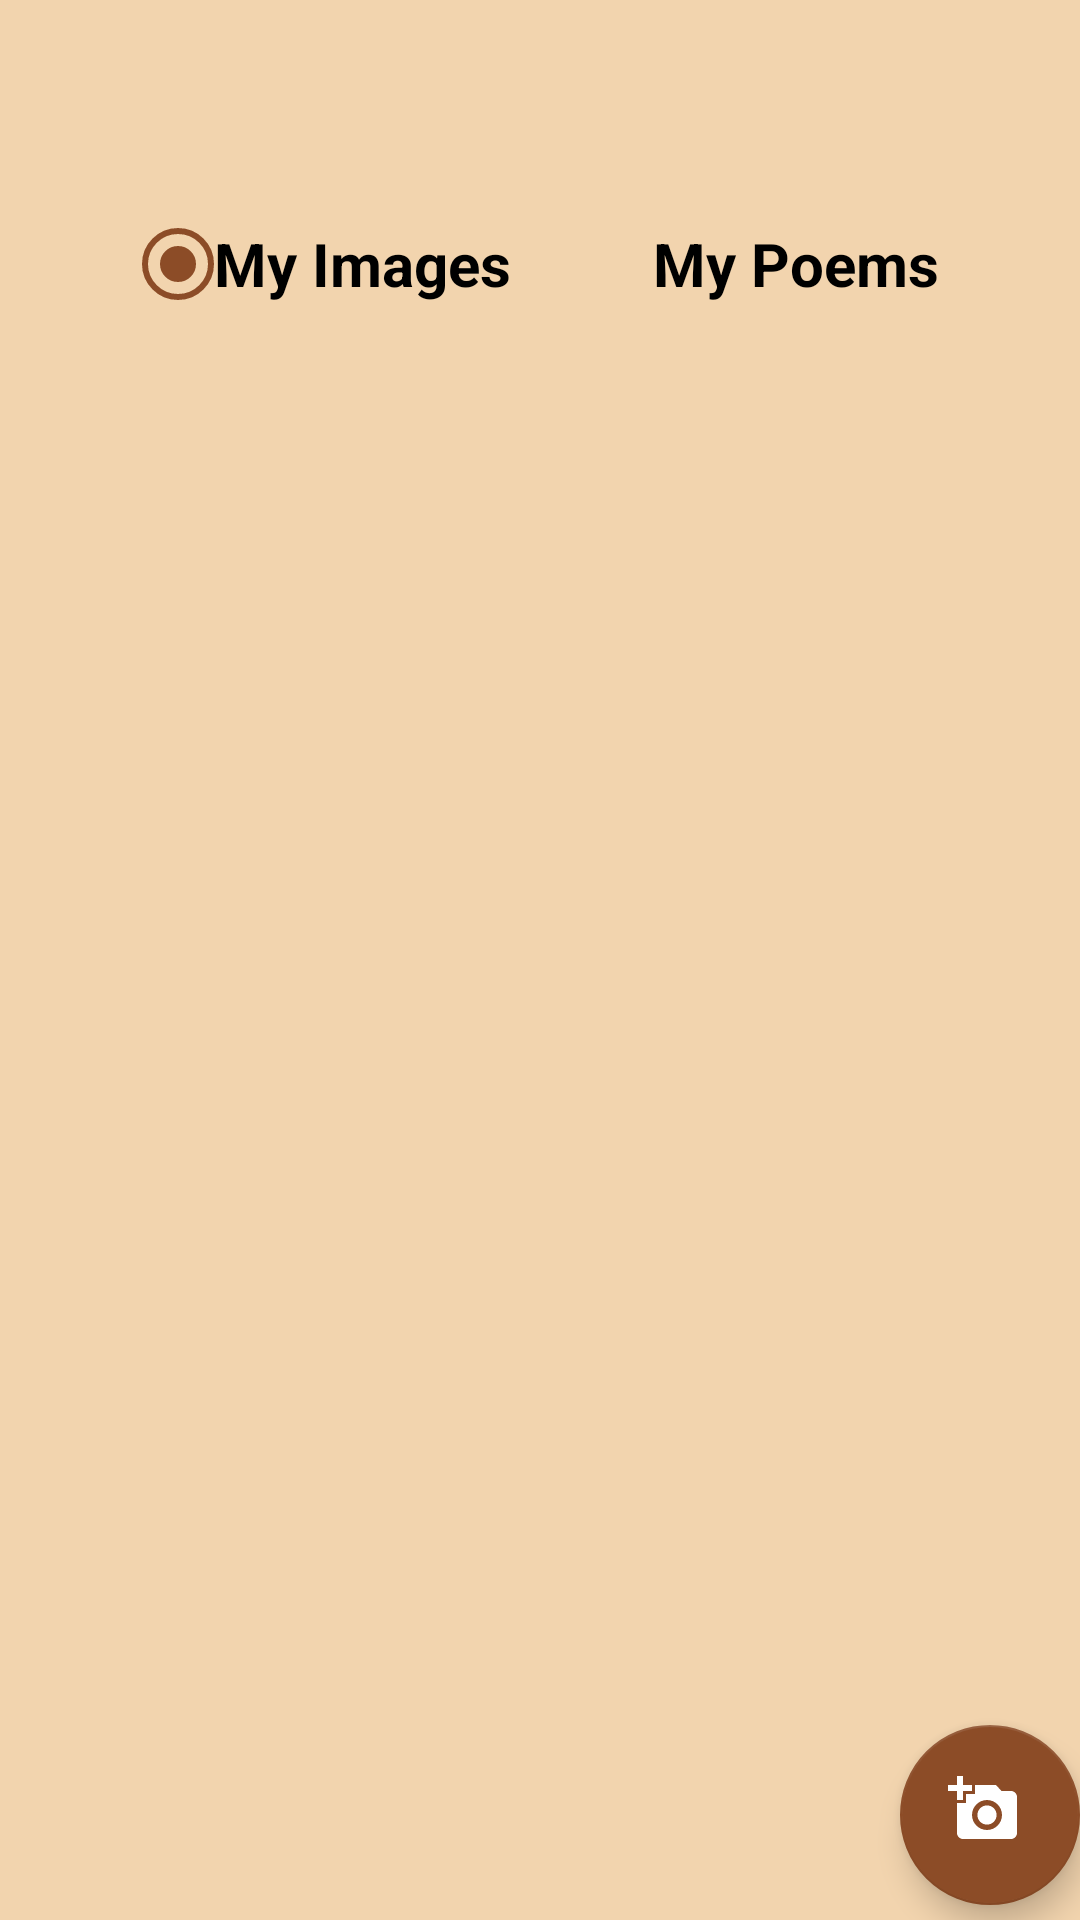

Where to tap for icons on this 1080w x 1920h app screen, as point (x, y):
add photo: point (990, 1815)
